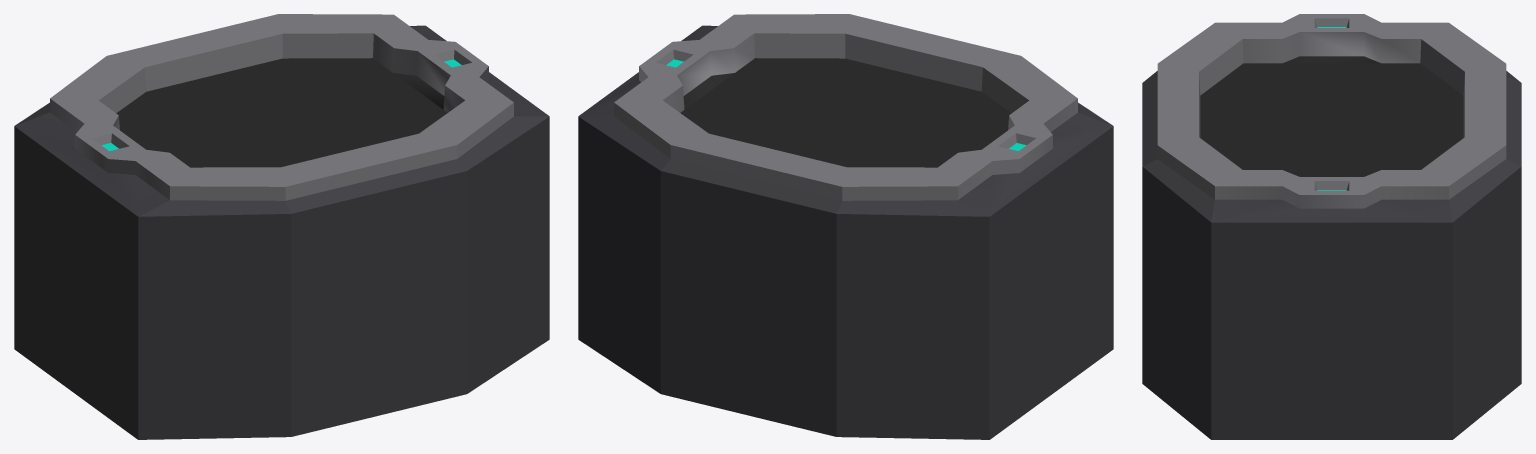
Rendered from SM_Prop_EscapePod_Hatch_Small_01.glb.
3 renders of one model, left to right at view 1: azimuth 30°, elevation 25°; view 2: azimuth 150°, elevation 25°; view 3: azimuth 270°, elevation 25°, orthographic. The views are drawn at different scales.
Parts seen in each view (by area): view 1: SM_Prop_EscapePod_Hatch_Small_01; view 2: SM_Prop_EscapePod_Hatch_Small_01; view 3: SM_Prop_EscapePod_Hatch_Small_01.
Part boxes in pixels (x1,y1,x2,y2): SM_Prop_EscapePod_Hatch_Small_01: (14,14,549,439); SM_Prop_EscapePod_Hatch_Small_01: (578,14,1113,439); SM_Prop_EscapePod_Hatch_Small_01: (1142,14,1521,439).
Bounding box in the file's own units: 1.69 × 0.9547 × 1.38.
Materials: 1 (1 with a texture image).
